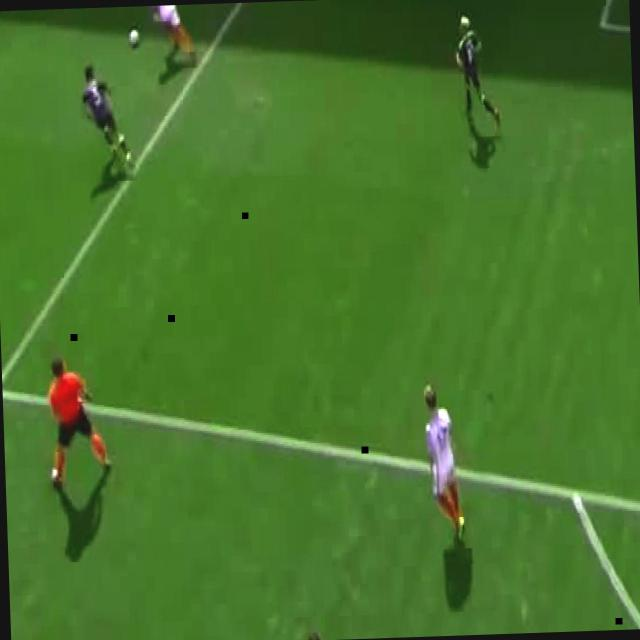ball: (129, 26, 139, 46)
player-white: (45, 358, 111, 484), (421, 380, 465, 540), (80, 63, 134, 181), (452, 10, 500, 128), (143, 4, 194, 69)
